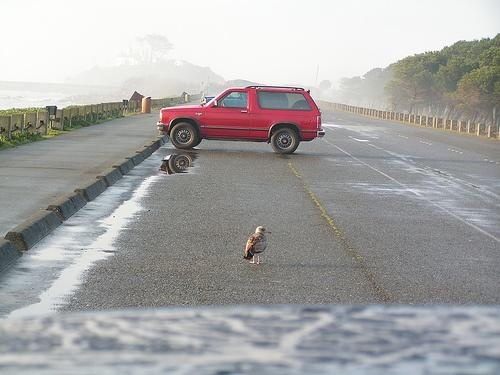bird: (244, 227, 273, 266)
car: (157, 86, 327, 154)
